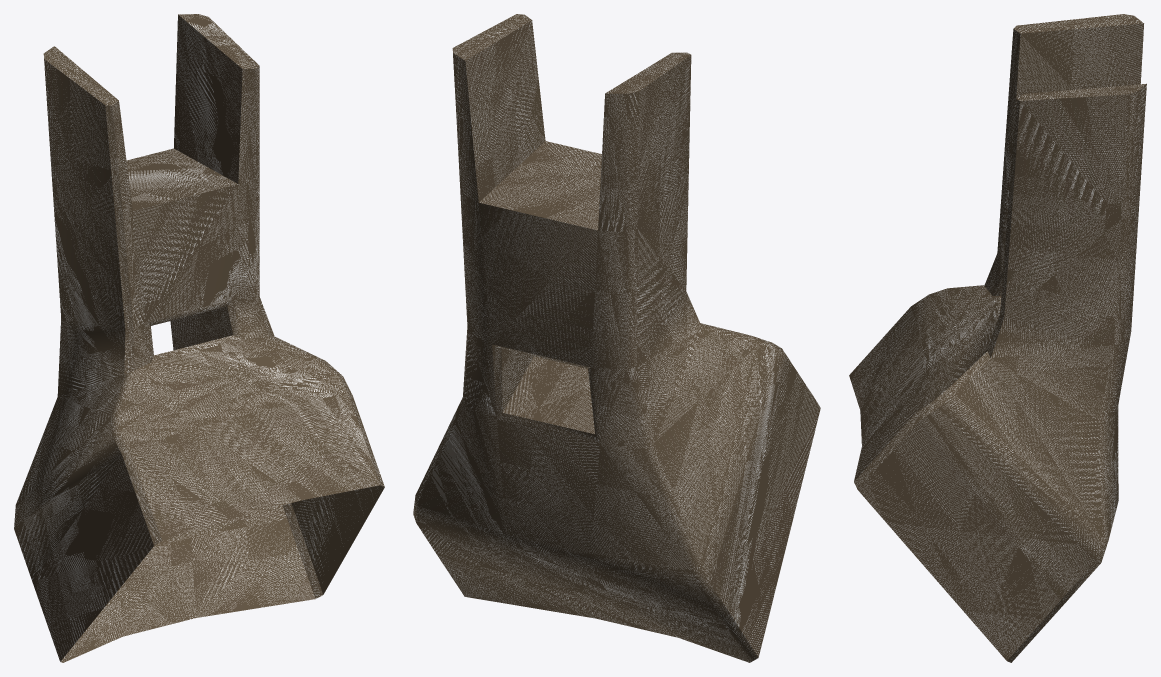
File: original-11.obj
3 renders of one model, left to right at view 1: azimuth 30°, elevation 25°; view 2: azimuth 150°, elevation 25°; view 3: azimuth 270°, elevation 25°, orthographic. The views are drawn at different scales.
Visible parts, largest first — view 1: mesh11/mesh11-geometry#mesh11-geometry; view 2: mesh11/mesh11-geometry#mesh11-geometry; view 3: mesh11/mesh11-geometry#mesh11-geometry.
Boxes of the visible parts, x1=… form: mesh11/mesh11-geometry#mesh11-geometry: x1=14, y1=14, x2=384, y2=662; mesh11/mesh11-geometry#mesh11-geometry: x1=413, y1=14, x2=820, y2=662; mesh11/mesh11-geometry#mesh11-geometry: x1=849, y1=14, x2=1146, y2=662.
Size of the model in its own units: 0.0884 by 0.1741 by 0.0861.
